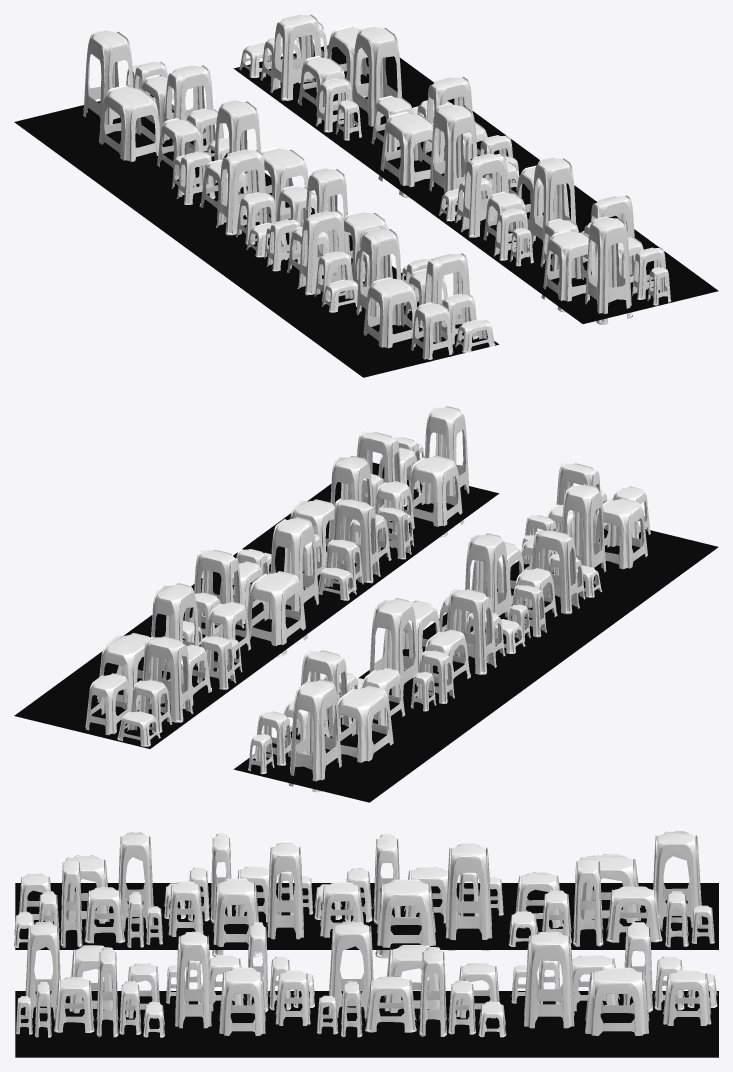
Rendered from 板凳总街.fbx.
3 renders of one model, top to bottom at view 1: azimuth 30°, elevation 25°; view 2: azimuth 150°, elevation 25°; view 3: azimuth 270°, elevation 25°, orthographic.
Parts seen in each view (by area): view 1: Plane, Plane__1_, bandeng__1_, bandeng, bandeng_2, bandeng_3, bandeng__1__3, bandeng__1__2, bandeng_1, bandeng__1__1; view 2: Plane, Plane__1_, bandeng, bandeng__1_, bandeng__1__2, bandeng_2, bandeng_1, bandeng__1__1, bandeng__1__3, bandeng_3; view 3: Plane__1_, Plane, bandeng, bandeng__1_, bandeng_2, bandeng__1__2, bandeng_1, bandeng__1__3, bandeng__1__1, bandeng_3.
Part boxes in pixels (x1,y1,x2,y2): Plane: [14, 94, 498, 377]; Plane__1_: [233, 45, 718, 323]; bandeng__1_: [83, 29, 229, 175]; bandeng: [239, 14, 402, 140]; bandeng_2: [171, 99, 317, 257]; bandeng_3: [356, 227, 495, 362]; bandeng__1__3: [540, 195, 671, 324]; bandeng__1__2: [371, 76, 518, 202]; bandeng_1: [438, 153, 576, 266]; bandeng__1__1: [264, 168, 392, 312]; Plane: [233, 528, 718, 802]; Plane__1_: [14, 462, 499, 748]; bandeng: [85, 583, 242, 746]; bandeng__1_: [248, 650, 405, 792]; bandeng__1__2: [165, 517, 318, 658]; bandeng_2: [369, 589, 525, 711]; bandeng_1: [290, 456, 414, 600]; bandeng__1__1: [465, 529, 602, 641]; bandeng__1__3: [334, 406, 469, 537]; bandeng_3: [521, 463, 650, 579]; Plane__1_: [15, 991, 718, 1057]; Plane: [15, 883, 718, 949]; bandeng: [511, 922, 717, 1035]; bandeng__1_: [508, 831, 714, 947]; bandeng_2: [314, 834, 503, 958]; bandeng__1__2: [317, 921, 506, 1037]; bandeng_1: [166, 922, 314, 1035]; bandeng__1__3: [16, 922, 164, 1037]; bandeng__1__1: [164, 833, 312, 957]; bandeng_3: [14, 832, 162, 947].
Size of the model in its own units: 4700 by 1160 by 8015.
Materials: 10 (1 with a texture image).
